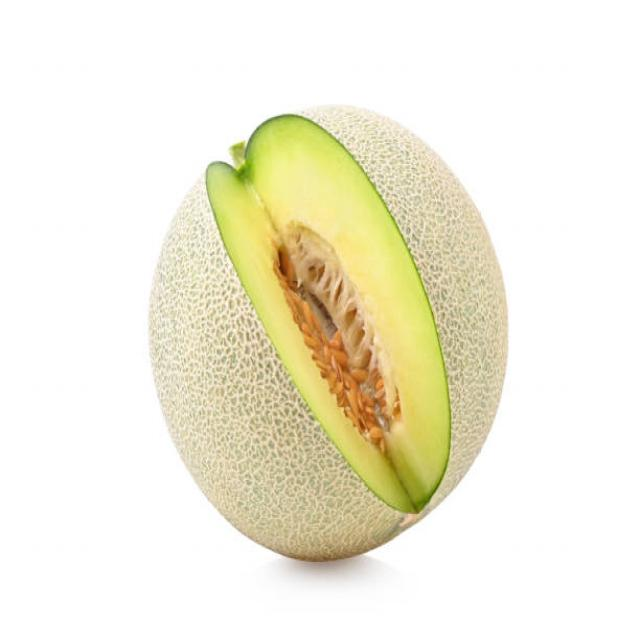Melon: (148, 90, 514, 570)
